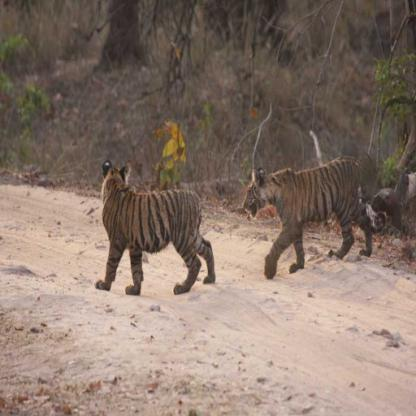Tiger: (239, 152, 384, 285), (90, 154, 220, 296)
